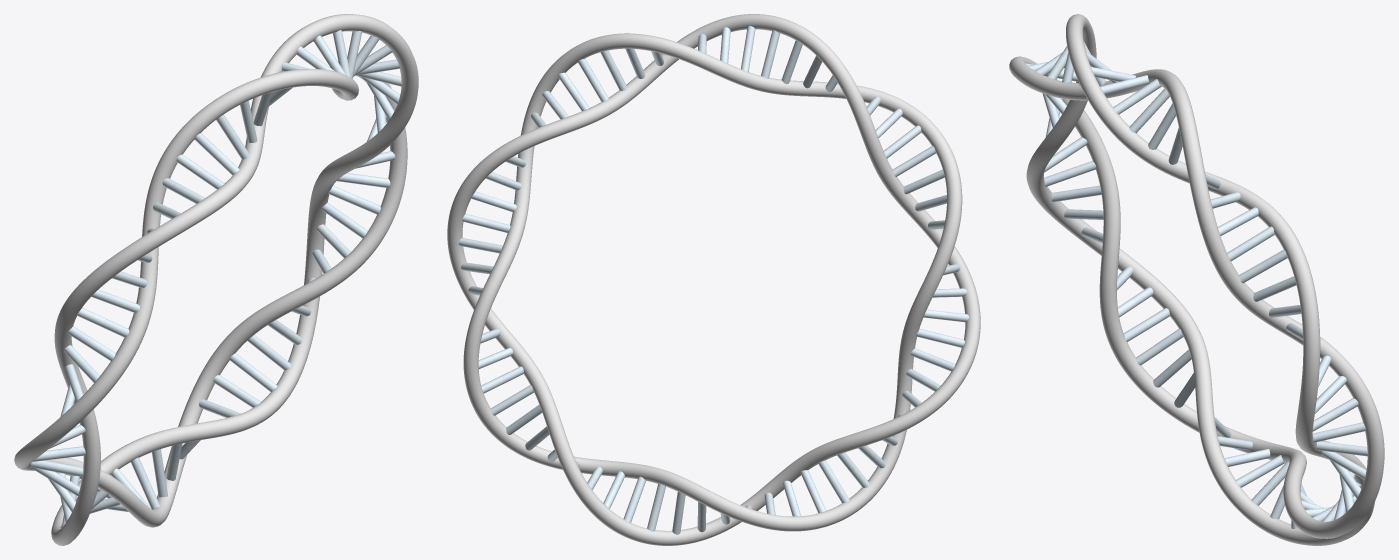
The model's file is BioVerse_Club_DNA.glb.
3 renders of one model, left to right at view 1: azimuth 30°, elevation 25°; view 2: azimuth 150°, elevation 25°; view 3: azimuth 270°, elevation 25°, orthographic. The views are drawn at different scales.
Visible parts, largest first — view 1: DNA_Backbone_B, DNA_Backbone_A; view 2: DNA_Backbone_A, DNA_Backbone_B; view 3: DNA_Backbone_B, DNA_Backbone_A.
Part boxes in pixels (x1=…): DNA_Backbone_B: x1=51, y1=14, x2=418, y2=545; DNA_Backbone_A: x1=14, y1=62, x2=407, y2=527; DNA_Backbone_A: x1=447, y1=14, x2=980, y2=545; DNA_Backbone_B: x1=463, y1=33, x2=962, y2=531; DNA_Backbone_B: x1=1009, y1=56, x2=1384, y2=538; DNA_Backbone_A: x1=1026, y1=14, x2=1374, y2=545.
Bounding box in the file's own units: 5.18 × 5.27 × 3.48.
